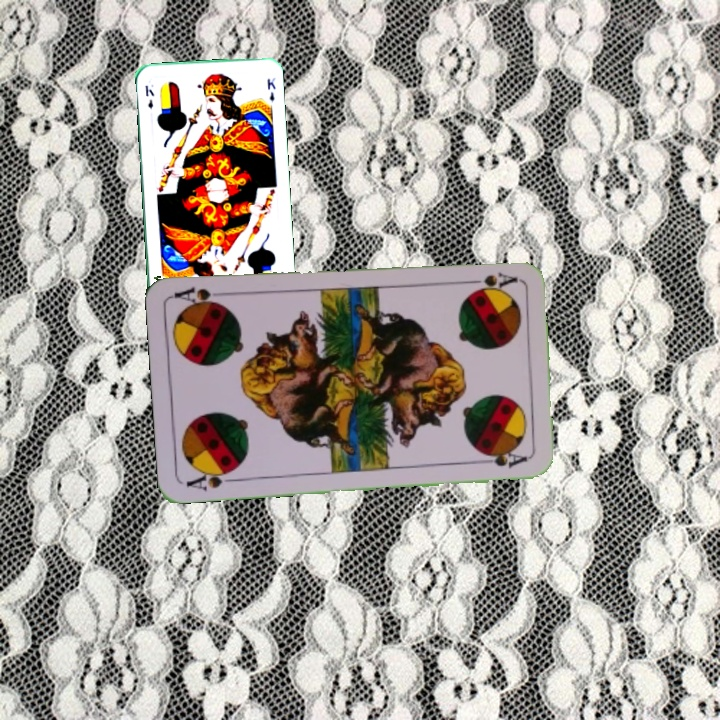EK: (141, 81, 157, 111)
SA: (182, 464, 241, 494), (459, 268, 519, 288)
